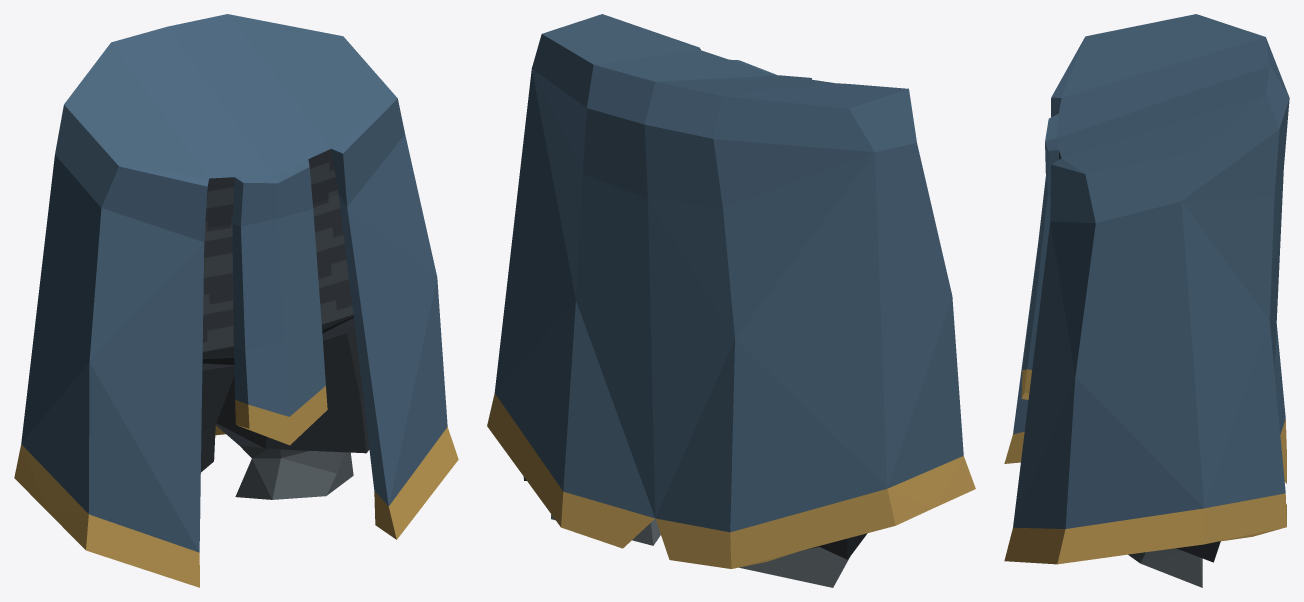
The model's file is Chr_Hips_Female_12_Static.fbx.
The picture shows the model from 3 angles, left to right: view 1: azimuth 30°, elevation 25°; view 2: azimuth 150°, elevation 25°; view 3: azimuth 270°, elevation 25°; orthographic projection. The views are drawn at different scales.
Visible parts, largest first — view 1: Chr_Hips_Female_12_Static; view 2: Chr_Hips_Female_12_Static; view 3: Chr_Hips_Female_12_Static.
Boxes of the visible parts, <box> form: Chr_Hips_Female_12_Static: <box>14,14,458,587</box>; Chr_Hips_Female_12_Static: <box>487,14,975,587</box>; Chr_Hips_Female_12_Static: <box>1004,14,1289,587</box>.
Size of the model in its own units: 0.4982 by 0.5806 by 0.3261.
